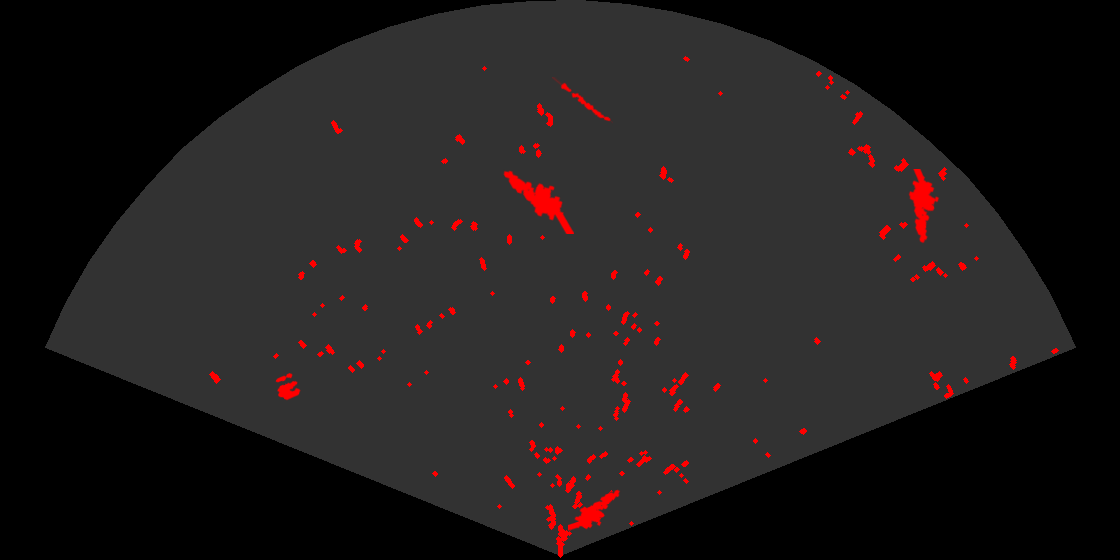ball: (274, 371, 302, 402)
chain: (552, 77, 613, 125)
frogman: (502, 169, 574, 234), (907, 169, 941, 245), (568, 488, 622, 532)
